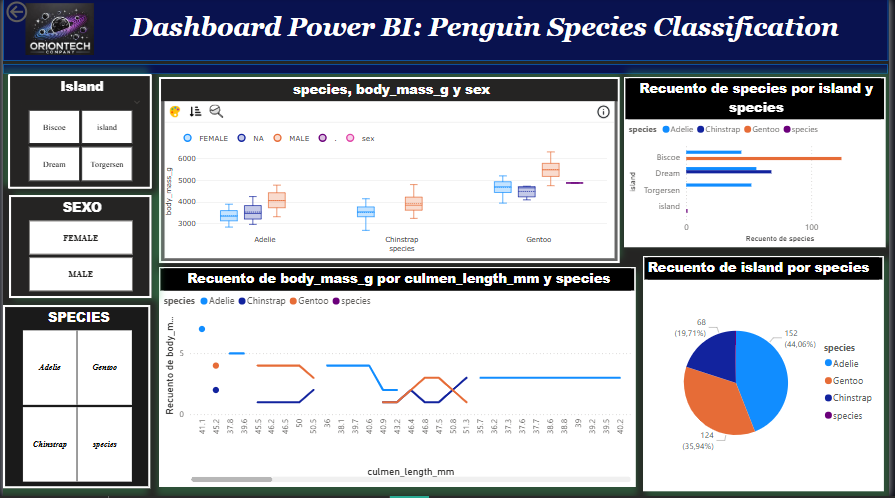

The dashboard page shown, as its layout file describes it:
{"tool":"powerbi","page":{"name":"Visualización-Penguin-Species-Classification","canvas":[1280,720],"ordinal":0},"visuals":[{"type":"slicer","title":"SPECIES","fields":{"Values":["penguins_size.species"]},"box":[0,443.5,212.9,264.7],"z":0},{"type":"pieChart","fields":{"Category":["penguins_size.species"],"Y":["CountNonNull(penguins_size.island)"]},"box":[924.6,372.3,347.7,340],"z":1000},{"type":"boxandwhiskerwithpoints3B3DF5C11B683E5DB4E630DD7899B035","fields":{"col_0":["penguins_size.species"],"col_2":["penguins_size.body_mass_g"],"col_1":["penguins_size.sex"]},"box":[225.9,114.1,665.9,269.4],"z":2000},{"type":"shape","box":[0,0,1280,90.8],"z":3000},{"type":"shape","box":[0,95.4,1279.5,14.5],"z":4000},{"type":"image","box":[27.3,1.5,109.1,86.3],"z":5000},{"type":"textbox","box":[136.3,15.1,1120.9,59.1],"z":6000},{"type":"clusteredBarChart","fields":{"Category":["penguins_size.island"],"Series":["penguins_size.species"],"Y":["CountNonNull(penguins_size.species)"]},"box":[898.5,113.8,378.5,246.2],"z":7000},{"type":"lineChart","fields":{"Y":["CountNonNull(penguins_size.body_mass_g)"],"Category":["penguins_size.culmen_length_mm"],"Series":["penguins_size.species"]},"box":[226.2,389.2,689.2,318.5],"z":8000},{"type":"actionButton","box":[0,0,100,40],"z":9000},{"type":"slicer","title":"SEXO","fields":{"Values":["penguins_size.sex"]},"box":[8.2,284.7,205.9,149.4],"z":10000},{"type":"slicer","title":"Island","fields":{"Values":["penguins_size.island"]},"box":[7.1,109.4,208.2,165.9],"z":11000}]}

Visuals, with their boxes in screenshot pixels (x1, y1, x2, y2), scaled from the page's 1280x720 canvas onto the 895x498 screenshot:
"SPECIES" slicer: bbox=[0, 307, 149, 490]
pieChart - penguins_size.species x CountNonNull(penguins_size.island): bbox=[646, 258, 890, 493]
boxandwhiskerwithpoints3B3DF5C11B683E5DB4E630DD7899B035 - penguins_size.species x penguins_size.body_mass_g: bbox=[158, 79, 624, 265]
shape: bbox=[0, 0, 894, 63]
shape: bbox=[0, 66, 894, 76]
image: bbox=[19, 1, 95, 61]
textbox: bbox=[95, 10, 879, 51]
clusteredBarChart - penguins_size.island x penguins_size.species: bbox=[628, 79, 893, 249]
lineChart - CountNonNull(penguins_size.body_mass_g) x penguins_size.culmen_length_mm: bbox=[158, 269, 640, 489]
actionButton: bbox=[0, 0, 70, 28]
"SEXO" slicer: bbox=[6, 197, 150, 300]
"Island" slicer: bbox=[5, 76, 151, 190]
